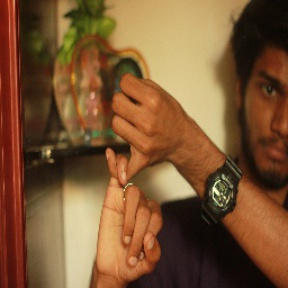S: (88, 72, 185, 276)
